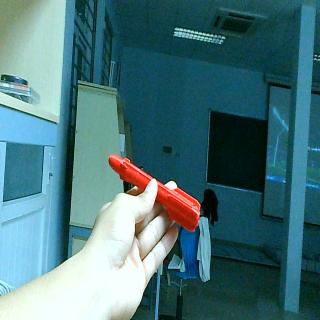Rocket: (108, 151, 202, 234)
